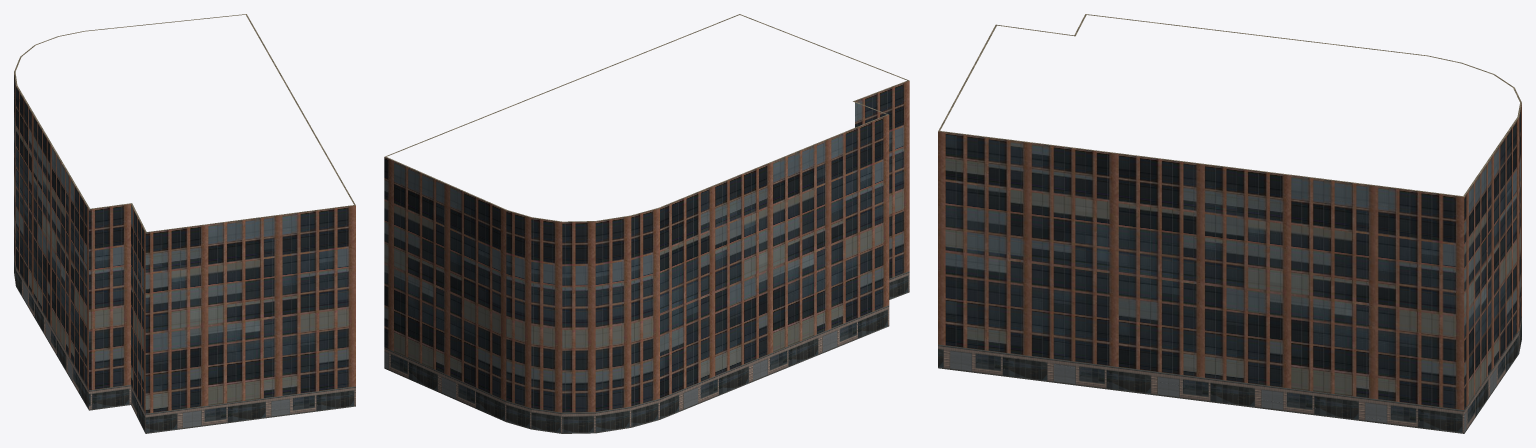
The picture shows the model from 3 angles, left to right: view 1: azimuth 30°, elevation 25°; view 2: azimuth 150°, elevation 25°; view 3: azimuth 270°, elevation 25°; orthographic projection. The views are drawn at different scales.
Visible parts, largest first — view 1: ClayFins, PanelArcade, ConcreteRoof; view 2: ClayFins, PanelArcade, ConcreteRoof; view 3: ClayFins, PanelArcade, ConcreteRoof.
Boxes of the visible parts, <box> form: ClayFins: <box>14,73,355,413</box>; PanelArcade: <box>14,254,355,433</box>; ConcreteRoof: <box>14,14,355,232</box>; ClayFins: <box>384,81,909,412</box>; PanelArcade: <box>384,271,909,433</box>; ConcreteRoof: <box>384,14,909,222</box>; ClayFins: <box>938,103,1521,410</box>; PanelArcade: <box>938,317,1521,433</box>; ConcreteRoof: <box>938,14,1521,196</box>.
Bounding box in the file's own units: 58.04 × 35.01 × 78.19.
3 materials, 3 textured.
